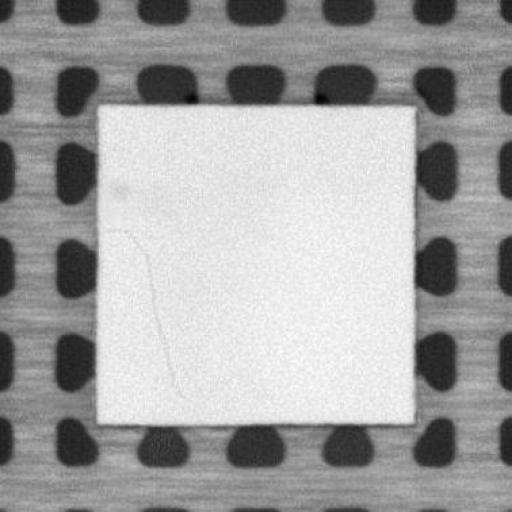DIE_CRACK: (123, 227, 183, 397)
